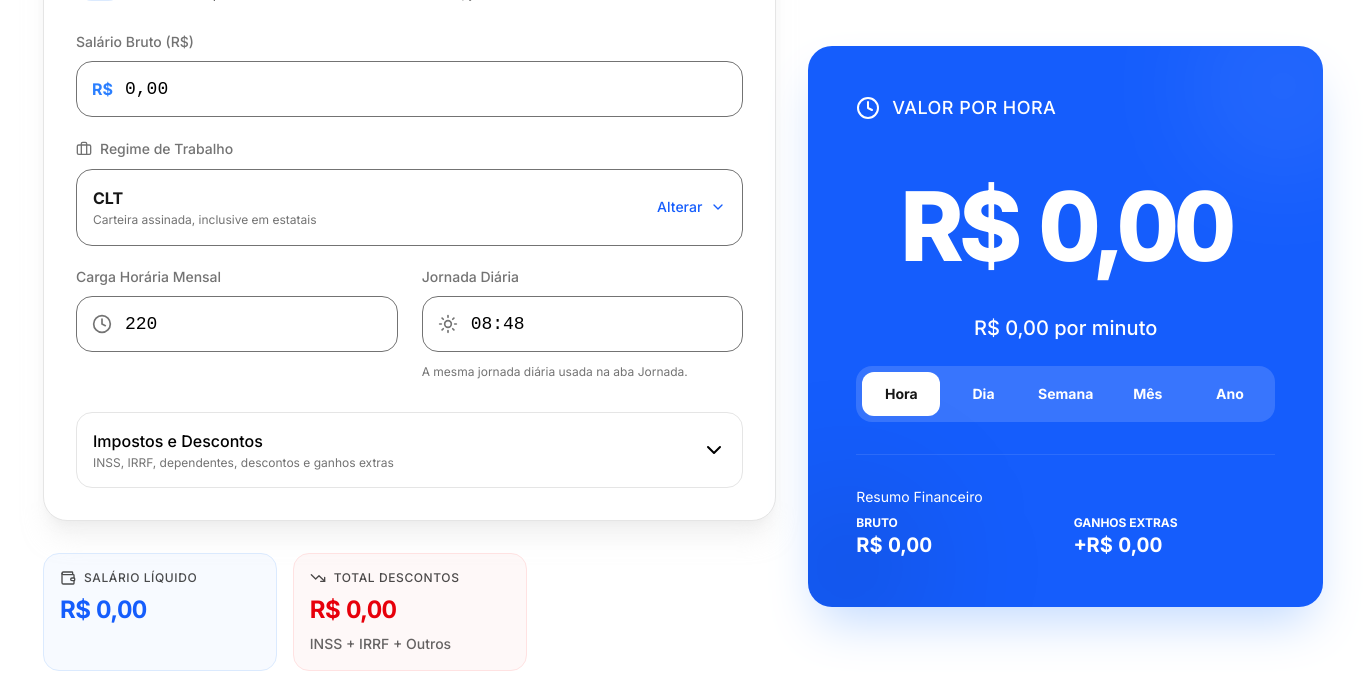
Scenario: SalaryCalculator › adds a deduction row through the panel
The width and height of the screenshot is (1366, 674).
What coordinates should you click on to do the following:
click the button "Impostos e Descontos"
I would click on:
 (178, 440)
Its box is [76,412,743,488].
(page scrolled)
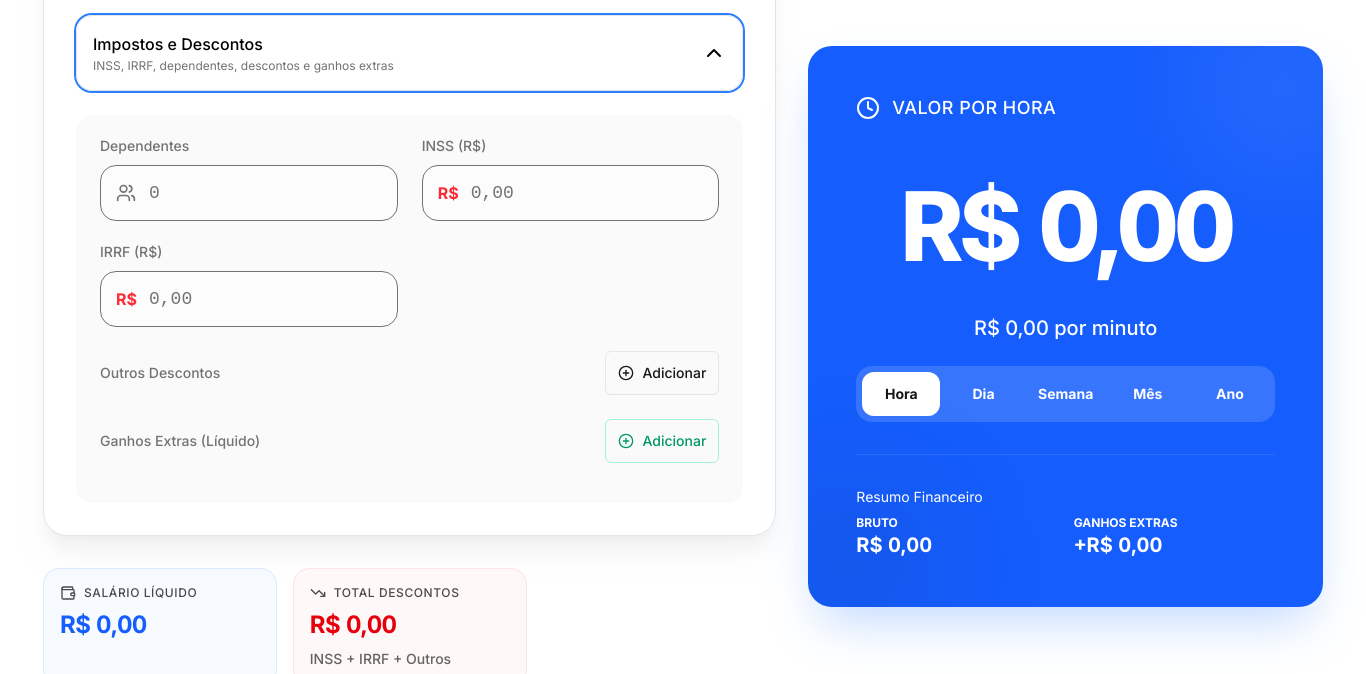
What coordinates should you click on to do the following:
click the button with aria-label "Adicionar desconto"
I would click on:
 (662, 372)
Its box is [606,350,719,394].
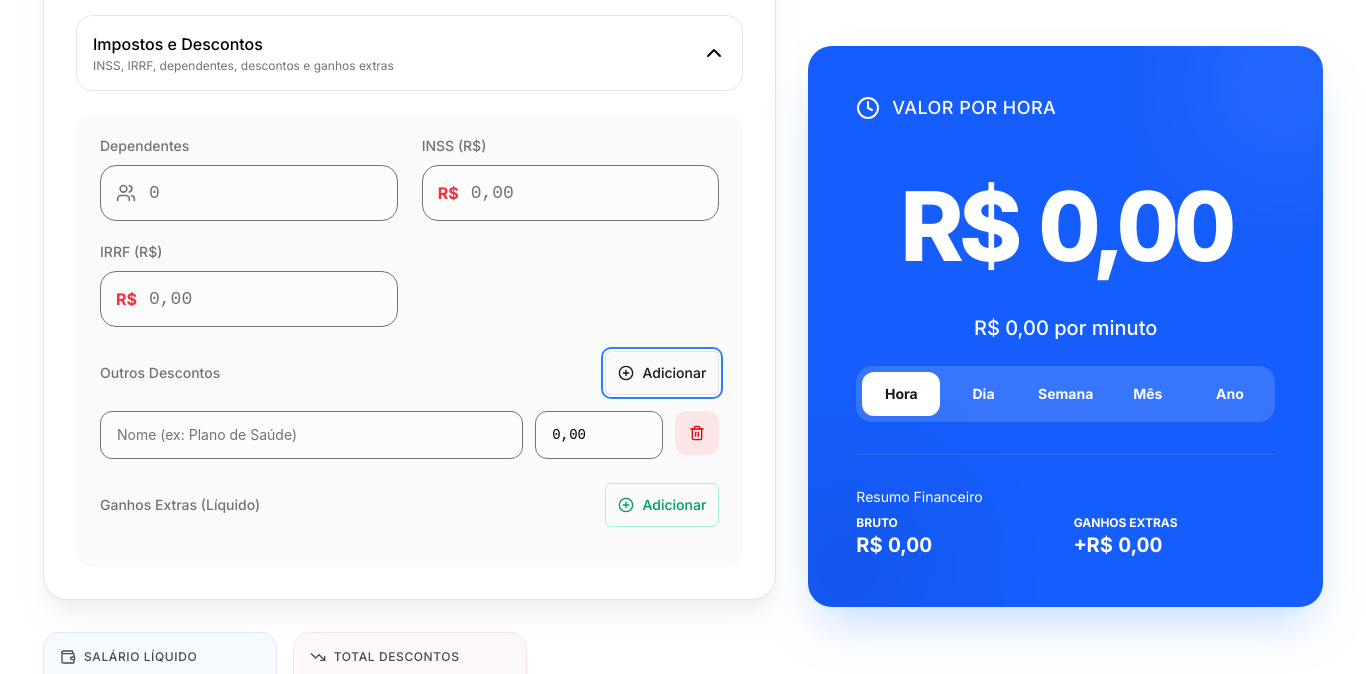
Now the field with placeholder "Nome (ex: Plano de Saúde)" is shown, box [100,410,523,458]
